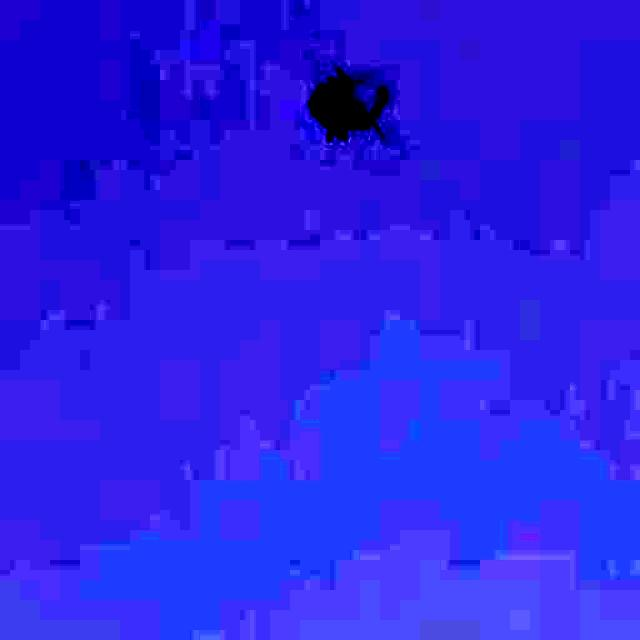drone: (289, 29, 415, 172)
